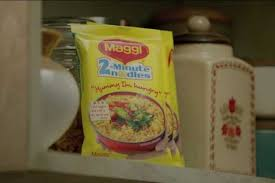maggie: (72, 24, 188, 166)
